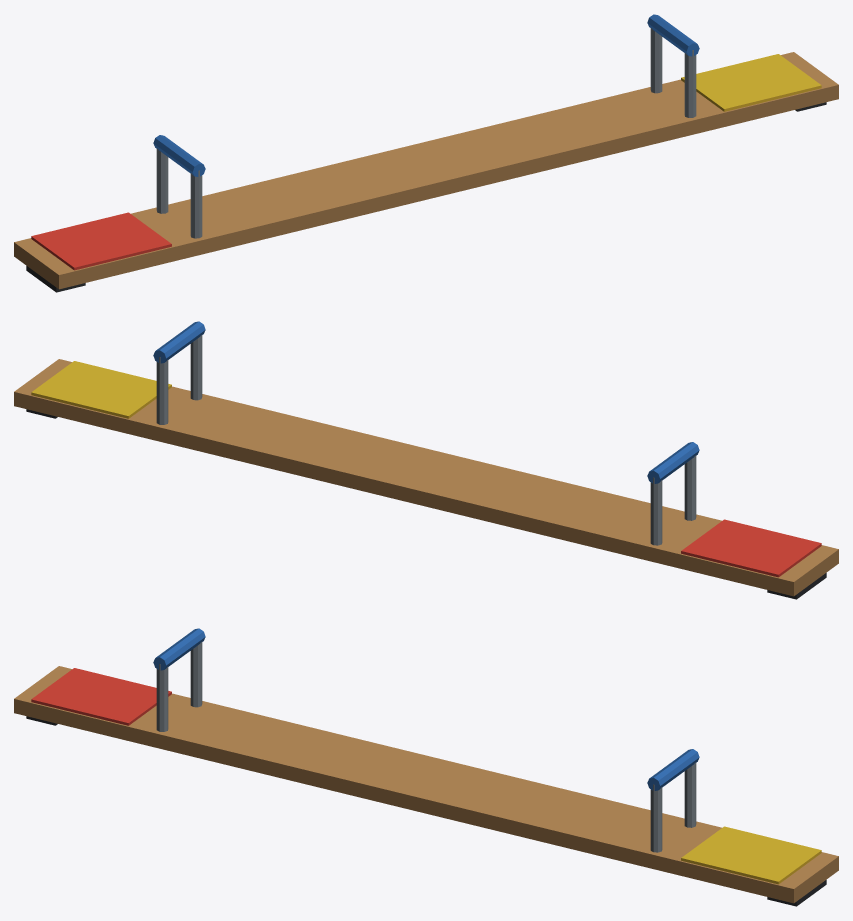
The model's file is Park_SeesawPlank.fbx.
3 views of the same model, one above another, from view 1: azimuth 30°, elevation 25°; view 2: azimuth 150°, elevation 25°; view 3: azimuth 330°, elevation 25° (orthographic).
Parts seen in each view (by area): view 1: Park_SeesawPlank; view 2: Park_SeesawPlank; view 3: Park_SeesawPlank.
Boxes of the visible parts, left/top/right/bottom form: Park_SeesawPlank: left=14, top=14, right=838, bottom=292; Park_SeesawPlank: left=14, top=321, right=838, bottom=599; Park_SeesawPlank: left=14, top=628, right=838, bottom=906.
Bounding box in the file's own units: 24 × 2.9 × 2.4.
